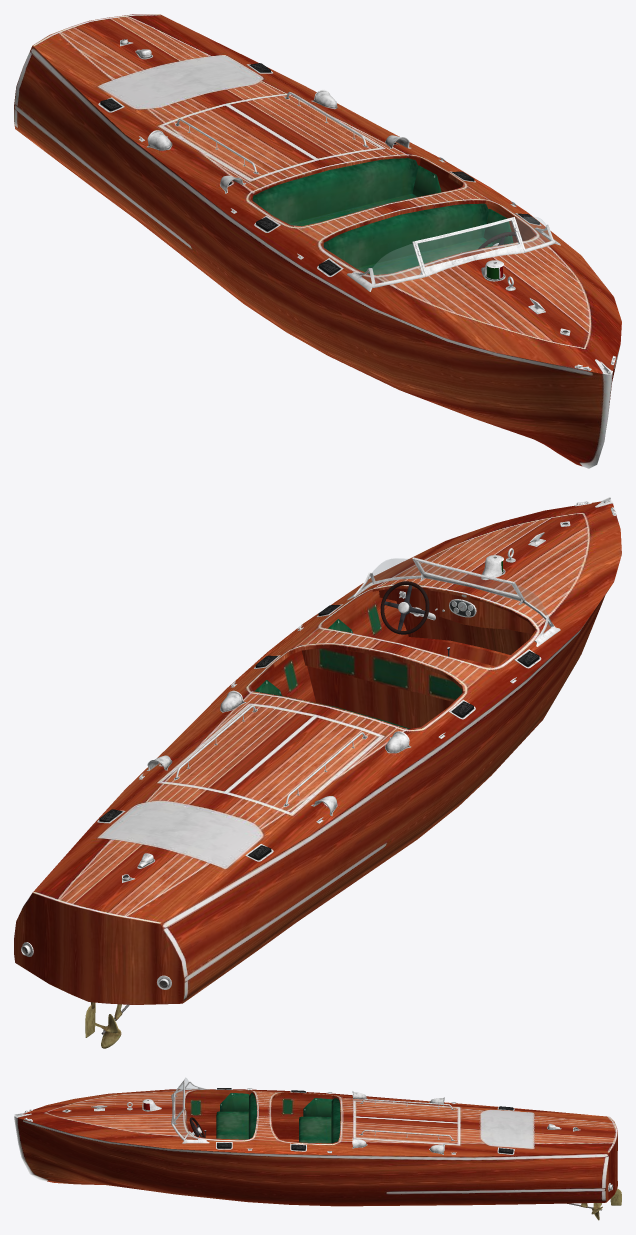
The model's file is vb_runabout.glb.
3 renders of one model, top to bottom at view 1: azimuth 30°, elevation 25°; view 2: azimuth 150°, elevation 25°; view 3: azimuth 270°, elevation 25°, orthographic. The views are drawn at different scales.
Parts seen in each view (by area): view 1: Hull_LOW003, Details_LOW001, Glass_LOW001; view 2: Hull_LOW003, Details_LOW001, Glass_LOW001; view 3: Hull_LOW003, Details_LOW001, Glass_LOW001.
Boxes of the visible parts, x1,y1,x2,y2 form: Hull_LOW003: [14, 14, 621, 468]; Details_LOW001: [98, 39, 616, 375]; Glass_LOW001: [361, 217, 551, 283]; Hull_LOW003: [14, 501, 621, 1048]; Details_LOW001: [21, 497, 616, 989]; Glass_LOW001: [362, 558, 552, 633]; Hull_LOW003: [14, 1089, 621, 1220]; Details_LOW001: [14, 1080, 612, 1191]; Glass_LOW001: [143, 1078, 197, 1139].
Size of the model in its own units: 225 by 208 by 913.
4 materials, 3 textured.
